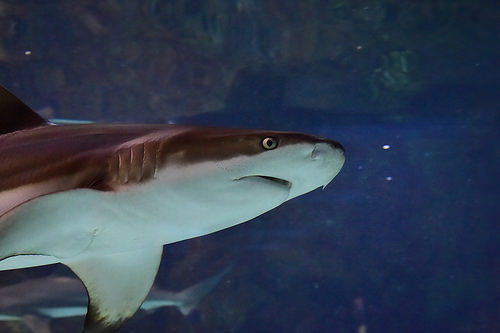shark: (4, 73, 352, 323)
